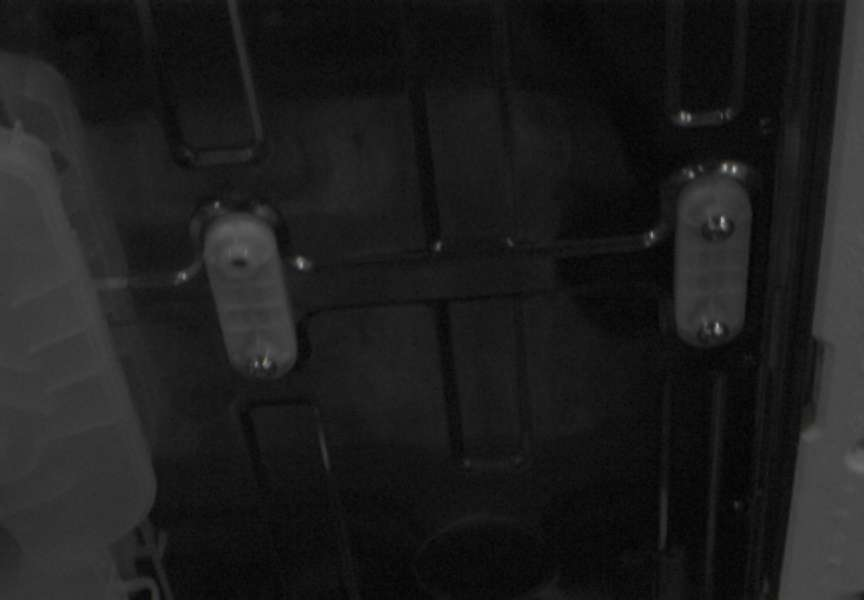missing_screw: (223, 251, 258, 280)
screw: (702, 214, 735, 242), (697, 320, 729, 346), (247, 354, 278, 379)
